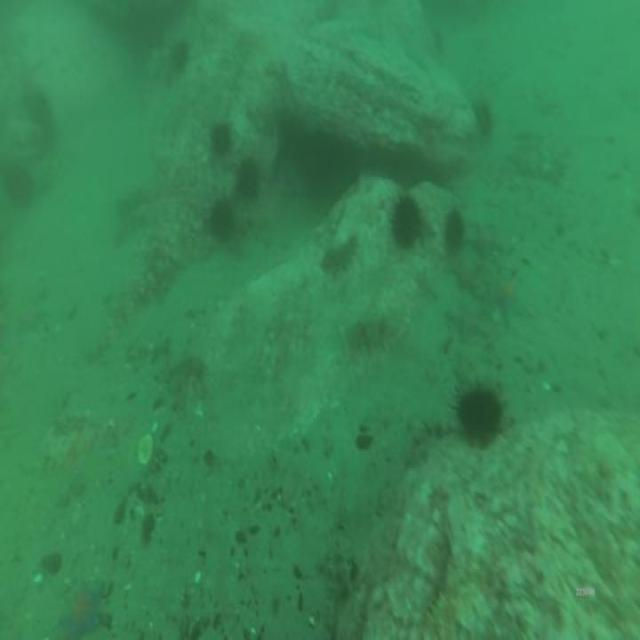echinus: (448, 378, 508, 448), (0, 155, 38, 213), (26, 88, 56, 146), (169, 35, 189, 76)
holothurian: (343, 313, 393, 357), (318, 231, 362, 278)
starfish: (55, 578, 107, 640), (478, 274, 524, 330), (389, 190, 427, 254), (444, 300, 492, 348), (463, 223, 507, 265), (446, 251, 486, 294), (207, 192, 237, 244), (233, 156, 263, 207), (441, 209, 466, 259), (208, 117, 236, 161), (471, 95, 495, 139)
